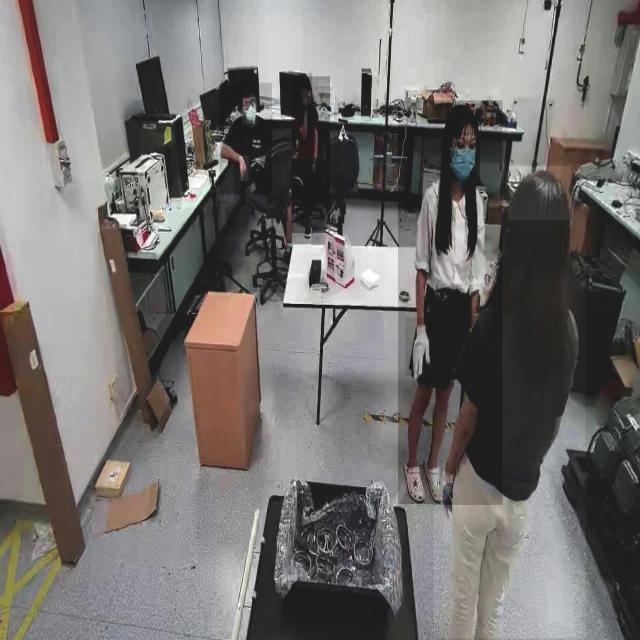face_mask: (452, 142, 480, 182), (242, 97, 258, 124)
face_nomask: (302, 90, 312, 105)
hand_glove: (405, 317, 435, 377)
hand_noglove: (239, 156, 249, 182), (311, 157, 319, 179), (303, 96, 310, 110)
head_nohelmet: (509, 166, 571, 222), (445, 103, 481, 136), (238, 81, 256, 93), (297, 73, 312, 85)
person: (433, 164, 585, 639), (398, 100, 502, 505), (291, 76, 330, 234), (219, 82, 272, 196)
